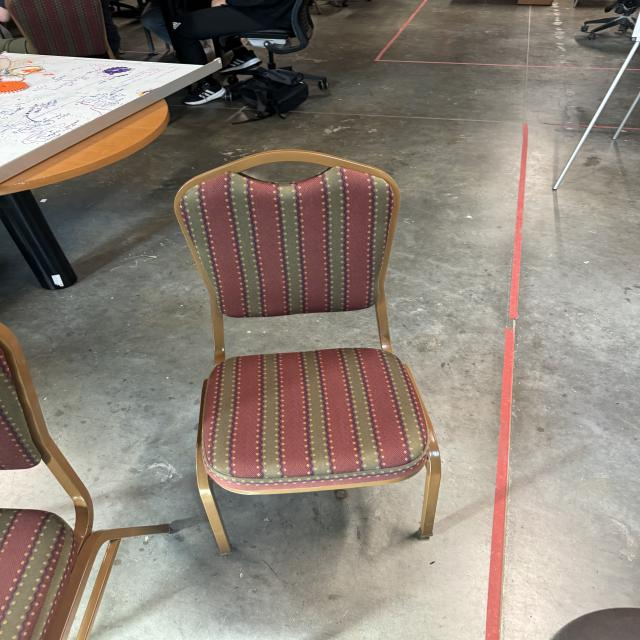chair: (163, 148, 444, 559)
